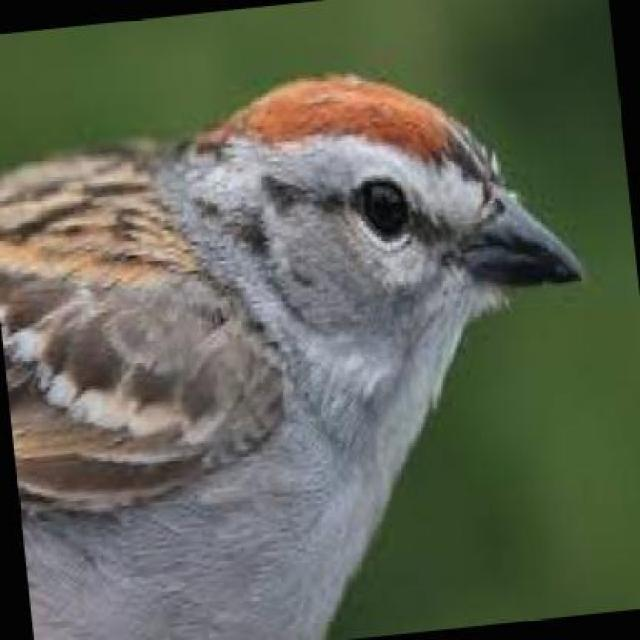Bird: (0, 59, 579, 640)
